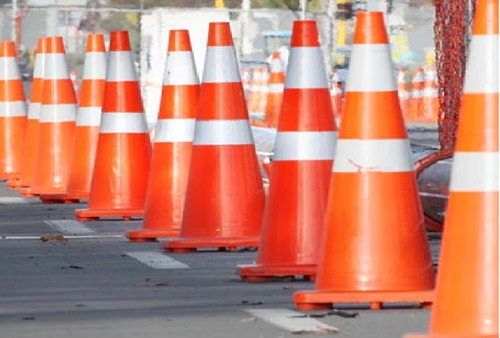cones: (318, 10, 434, 304), (259, 19, 335, 274), (188, 19, 264, 246), (78, 30, 156, 220)
